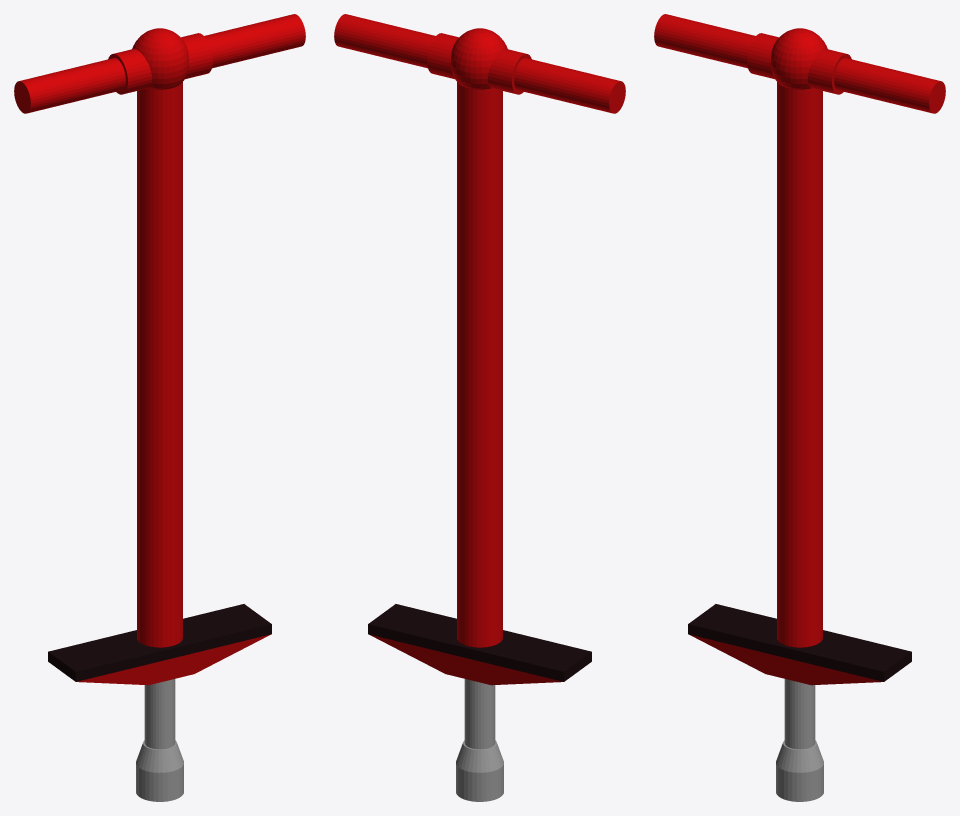
Rendered from pogo4.fbx.
3 views of the same model, side by side, from view 1: azimuth 30°, elevation 25°; view 2: azimuth 150°, elevation 25°; view 3: azimuth 330°, elevation 25° (orthographic).
Parts seen in each view (by area): view 1: YLEMPI, ALEMPI; view 2: YLEMPI, ALEMPI; view 3: YLEMPI, ALEMPI.
Boxes of the visible parts, box(x1,y1,x2,y2) form: YLEMPI: box(14, 14, 305, 685); ALEMPI: box(136, 679, 183, 801); YLEMPI: box(334, 14, 625, 685); ALEMPI: box(456, 679, 503, 801); YLEMPI: box(654, 14, 945, 685); ALEMPI: box(776, 679, 823, 801).
Bounding box in the file's own units: 0.8253 × 2.18 × 0.1563.
